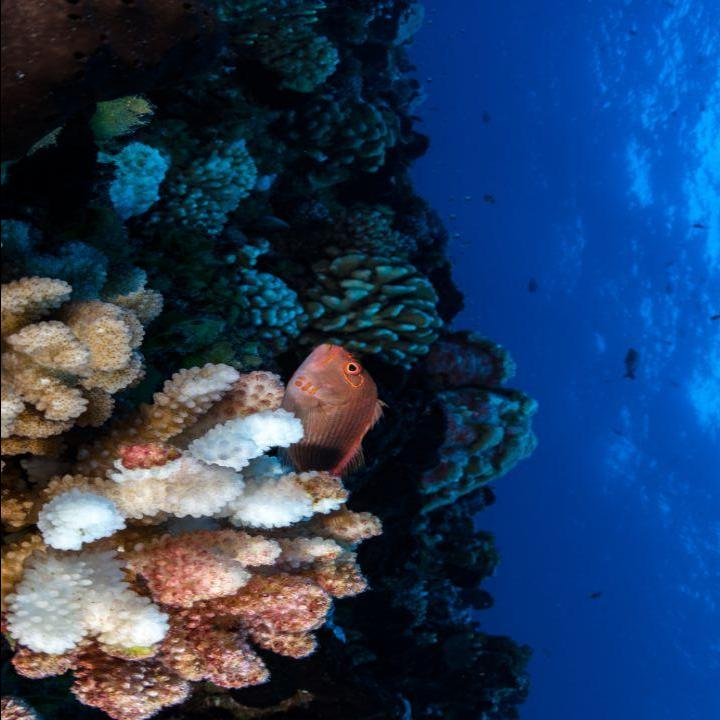Bleached disease: (25, 360, 319, 674)
Healthy Coral: (95, 13, 400, 267)
